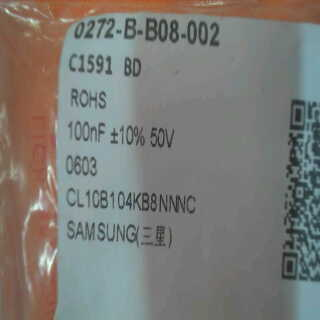100nF: (61, 115, 106, 147)
